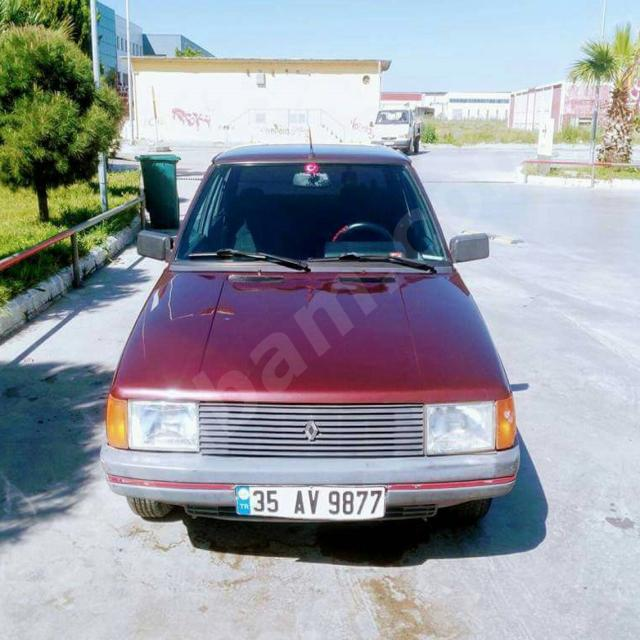license_plate: (234, 484, 386, 521)
